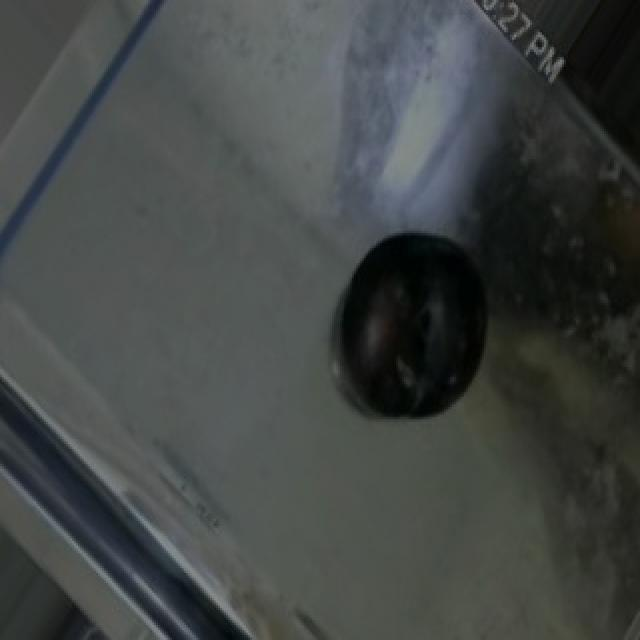Fruit: (316, 218, 512, 444), (550, 0, 640, 171)
